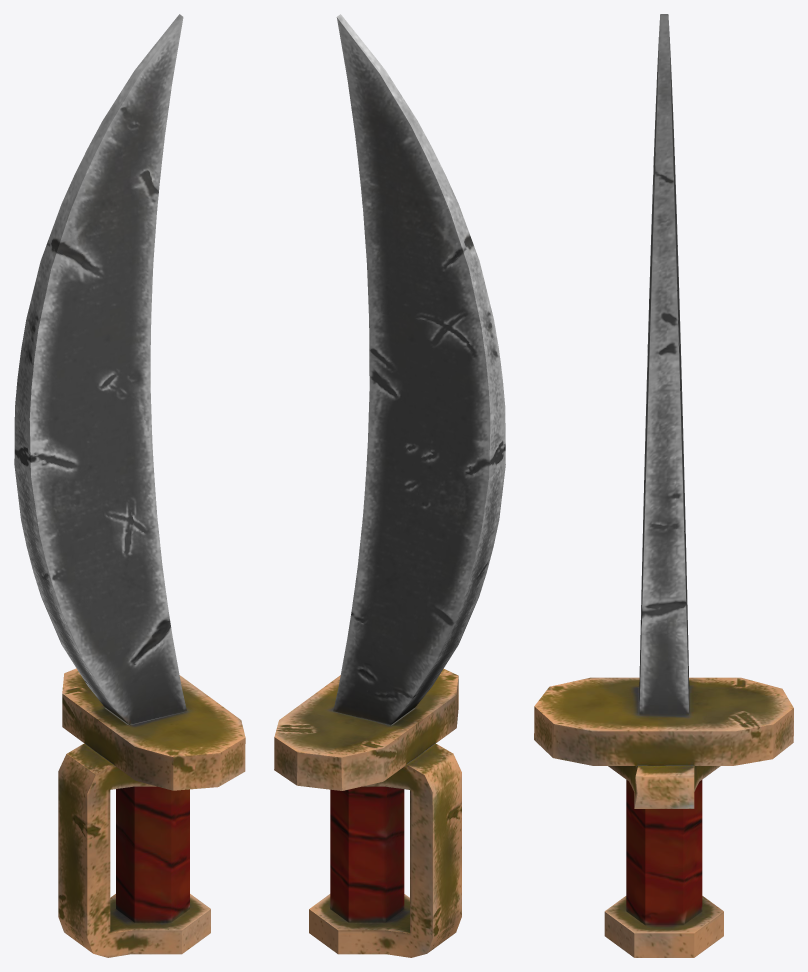
The model's file is sabre001.obj.
3 renders of one model, left to right at view 1: azimuth 30°, elevation 25°; view 2: azimuth 150°, elevation 25°; view 3: azimuth 270°, elevation 25°, orthographic. The views are drawn at different scales.
Parts seen in each view (by area): view 1: Retopo_Untitled-5.001_mesh; view 2: Retopo_Untitled-5.001_mesh; view 3: Retopo_Untitled-5.001_mesh.
Part boxes in pixels (<box>): Retopo_Untitled-5.001_mesh: <box>14,14,245,957</box>; Retopo_Untitled-5.001_mesh: <box>274,14,505,957</box>; Retopo_Untitled-5.001_mesh: <box>534,14,793,957</box>.
Bounding box in the file's own units: 0.4405 × 1.9 × 0.4777.
